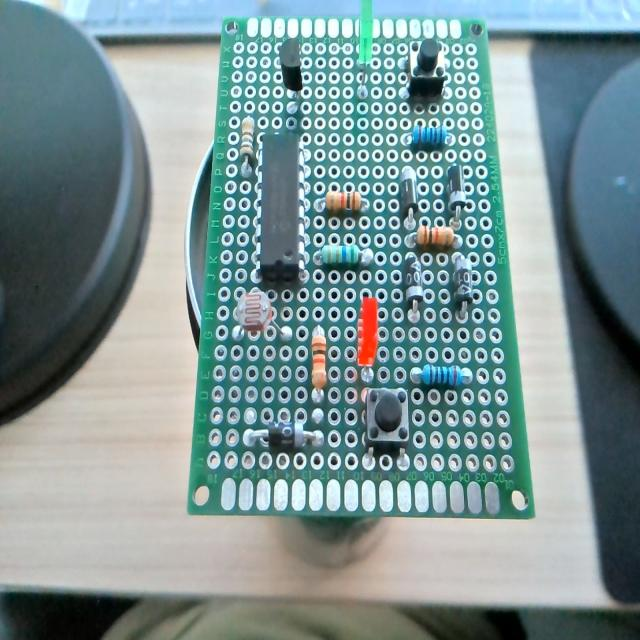IC: (253, 129, 312, 284)
cds: (220, 288, 292, 343)
diode: (246, 420, 326, 450), (453, 256, 476, 310), (447, 164, 469, 219), (404, 255, 424, 311), (401, 166, 418, 222)
led: (346, 291, 390, 377), (347, 0, 385, 95)
resistor: (303, 318, 338, 403), (414, 364, 471, 388), (238, 117, 255, 179), (412, 124, 453, 147), (326, 191, 363, 213), (417, 225, 454, 247), (322, 245, 362, 264)
switch: (364, 387, 408, 455), (408, 38, 445, 96)
transistor: (279, 38, 303, 91)
